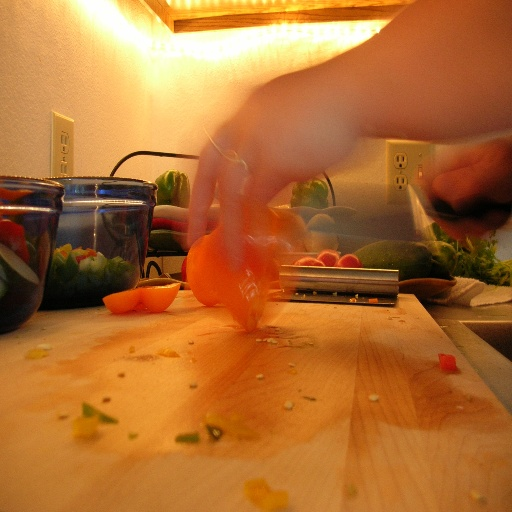hand: (185, 55, 359, 269), (427, 114, 509, 222)
